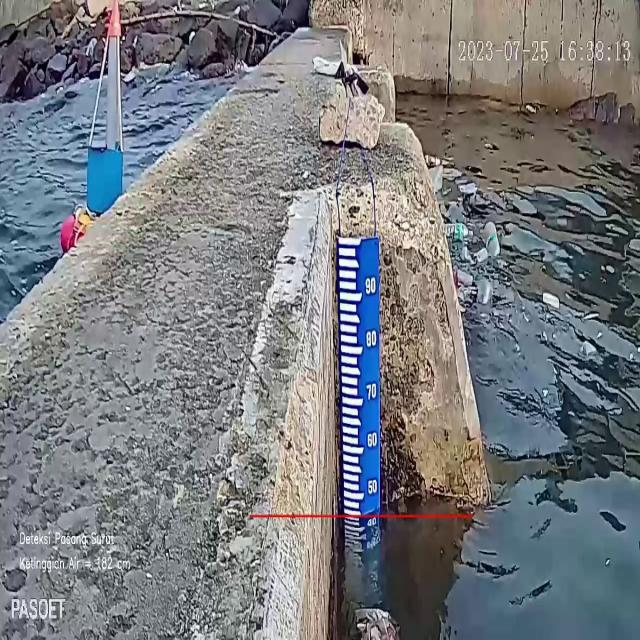50: (368, 478, 378, 497)
60: (366, 430, 378, 448)
70: (365, 383, 377, 402)
80: (366, 330, 377, 349)
90: (366, 276, 376, 296)
staff: (338, 235, 380, 516)
